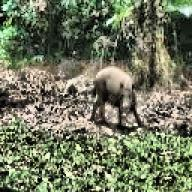boar: (88, 64, 142, 128)
